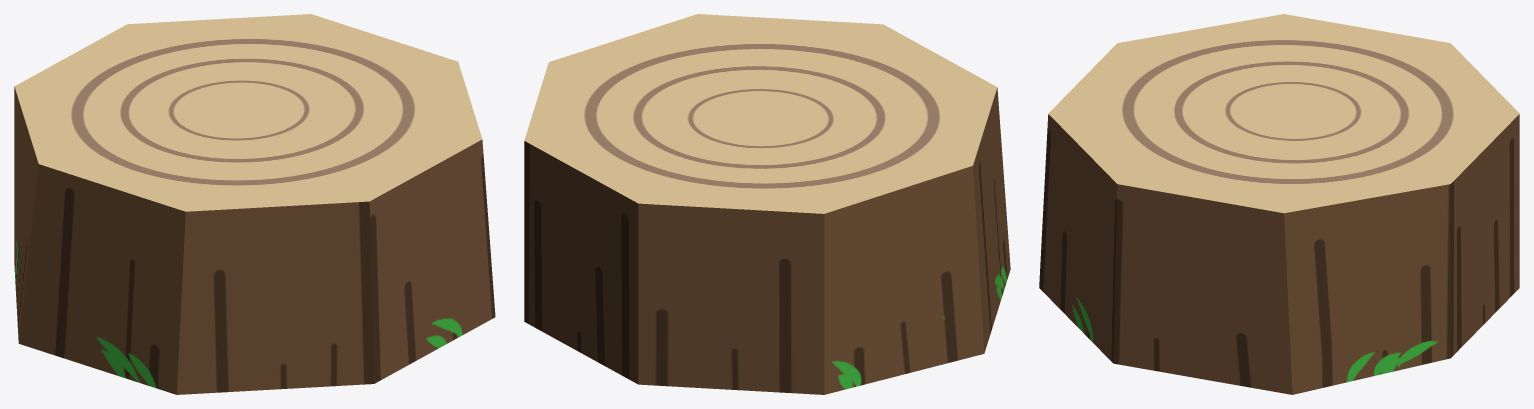
File: object3_stump.fbx
The picture shows the model from 3 angles, left to right: view 1: azimuth 30°, elevation 25°; view 2: azimuth 150°, elevation 25°; view 3: azimuth 270°, elevation 25°; orthographic projection. The views are drawn at different scales.
Parts seen in each view (by area): view 1: Cylinder; view 2: Cylinder; view 3: Cylinder.
Part boxes in pixels (<box>): Cylinder: <box>14,14,495,394</box>; Cylinder: <box>524,14,1010,394</box>; Cylinder: <box>1039,14,1519,394</box>.
Size of the model in its own units: 379 by 144 by 360.
